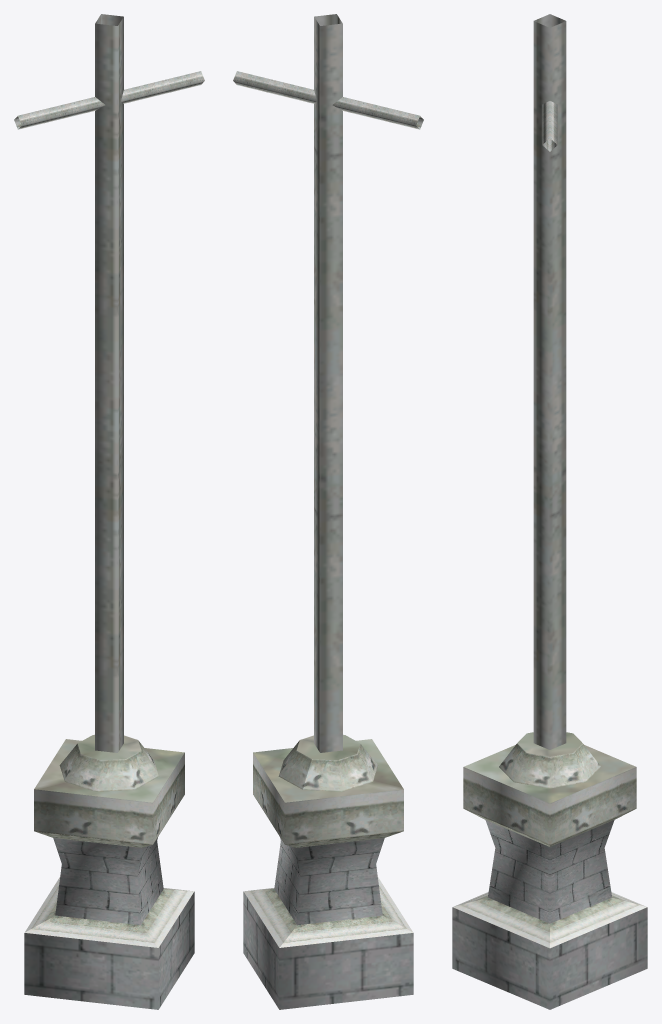
Rendered from Poste.obj.
3 renders of one model, left to right at view 1: azimuth 30°, elevation 25°; view 2: azimuth 150°, elevation 25°; view 3: azimuth 270°, elevation 25°, orthographic.
Visible parts, largest first — view 1: polySurface28 Poste:Mesh; view 2: polySurface28 Poste:Mesh; view 3: polySurface28 Poste:Mesh.
Part boxes in pixels (x1,y1,x2,y2): polySurface28 Poste:Mesh: (14, 14, 204, 1009); polySurface28 Poste:Mesh: (233, 14, 423, 1009); polySurface28 Poste:Mesh: (452, 14, 647, 1009).
Bounding box in the file's own units: 0.5234 × 2.6 × 0.4858.
3 materials, 3 textured.
